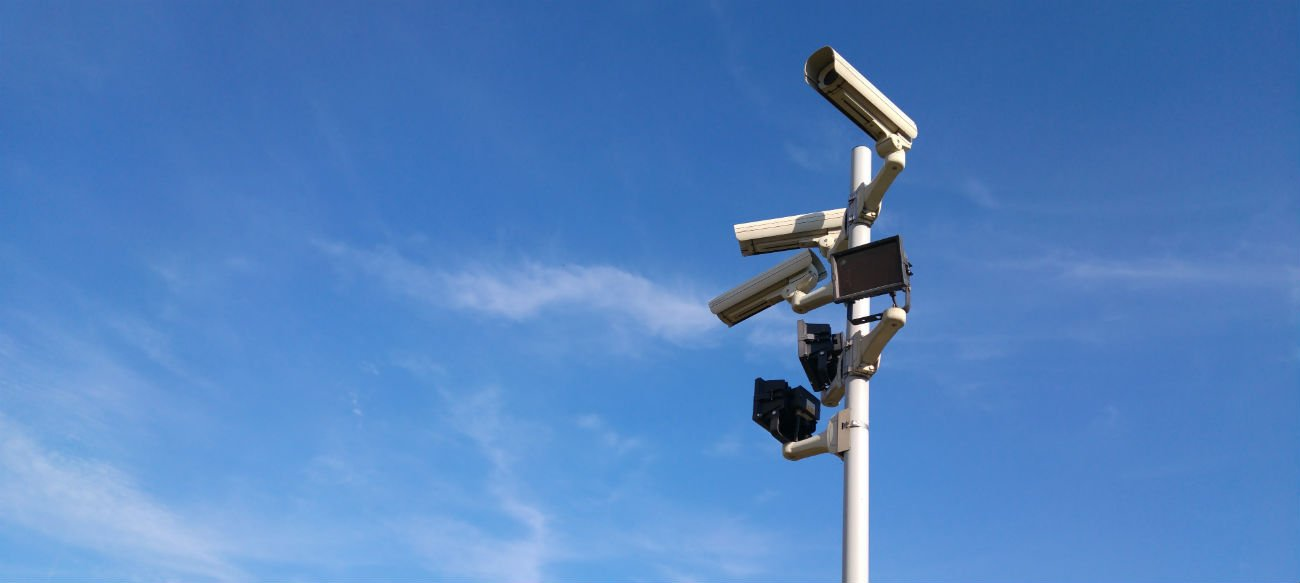CC Camera: (795, 41, 921, 159), (703, 247, 828, 329), (732, 210, 849, 255)
